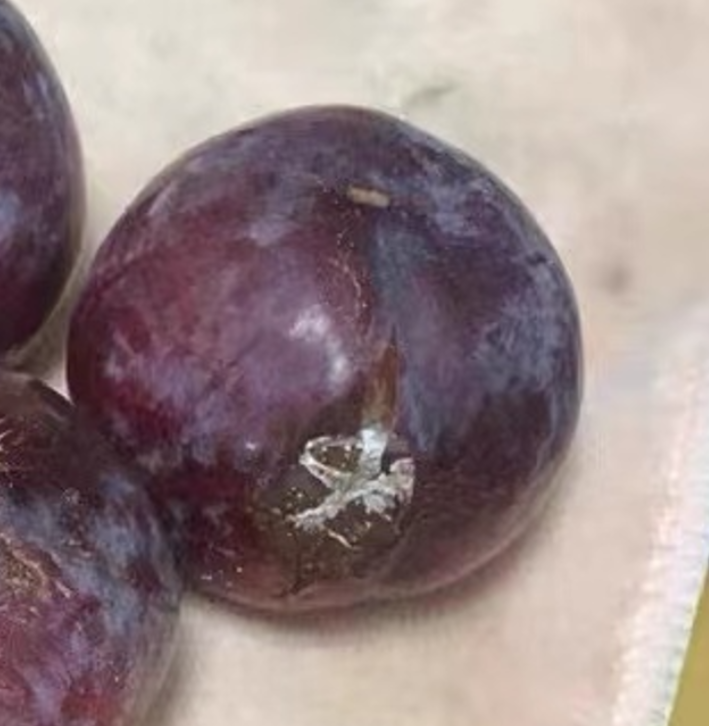plum_C: (68, 105, 586, 615)
